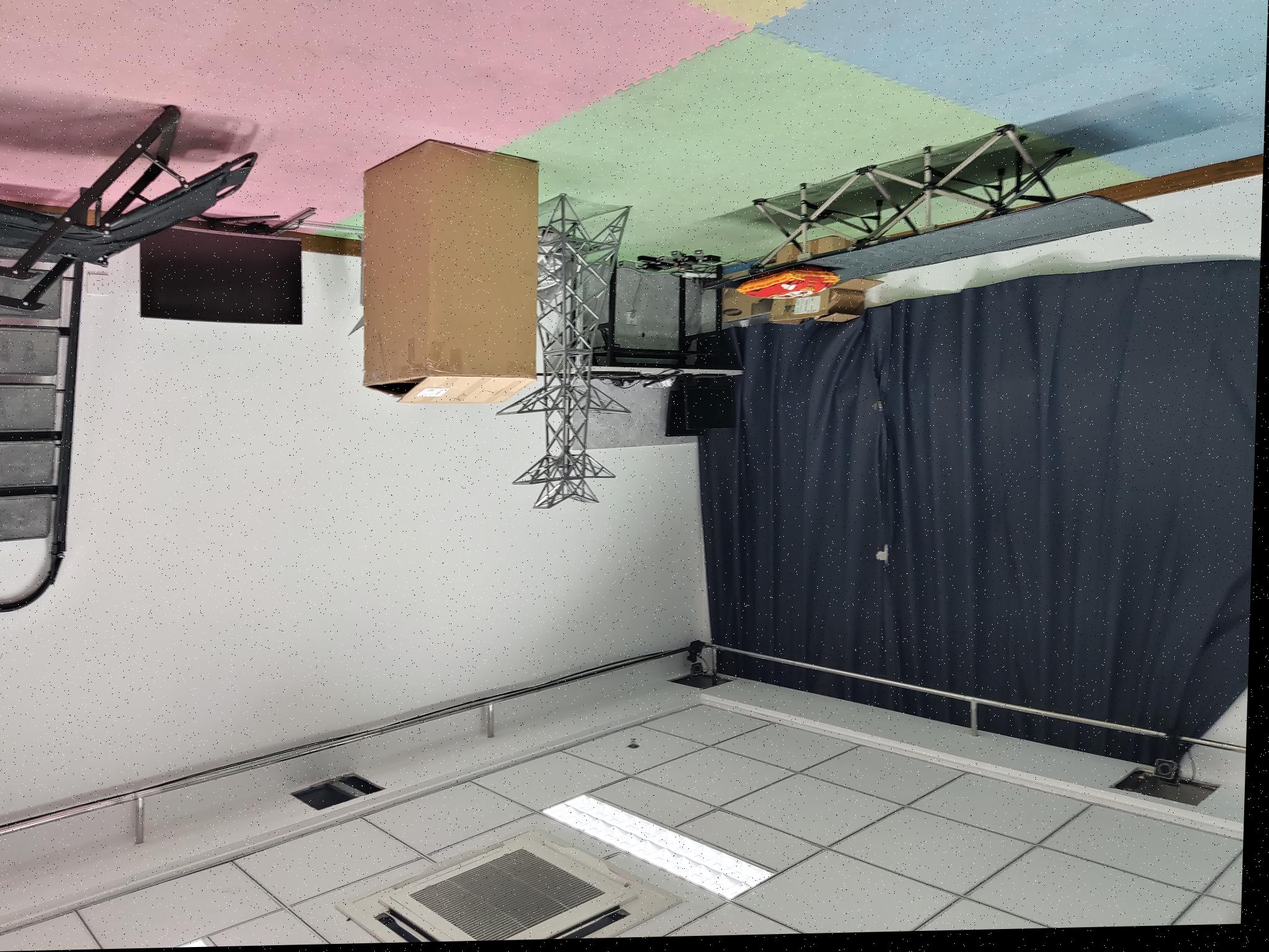tower: (529, 194, 633, 509)
